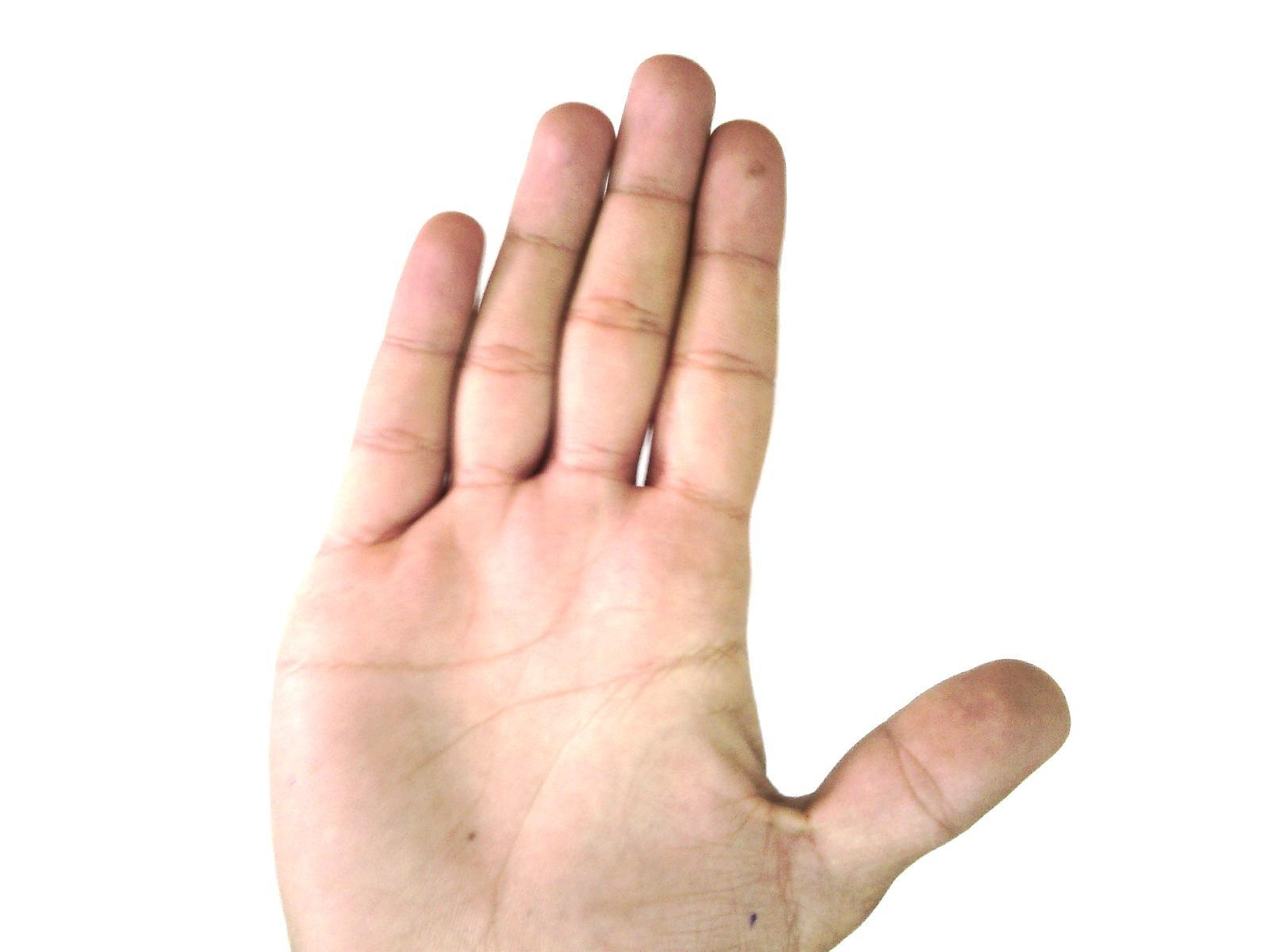open_palm: (264, 52, 1074, 951)
